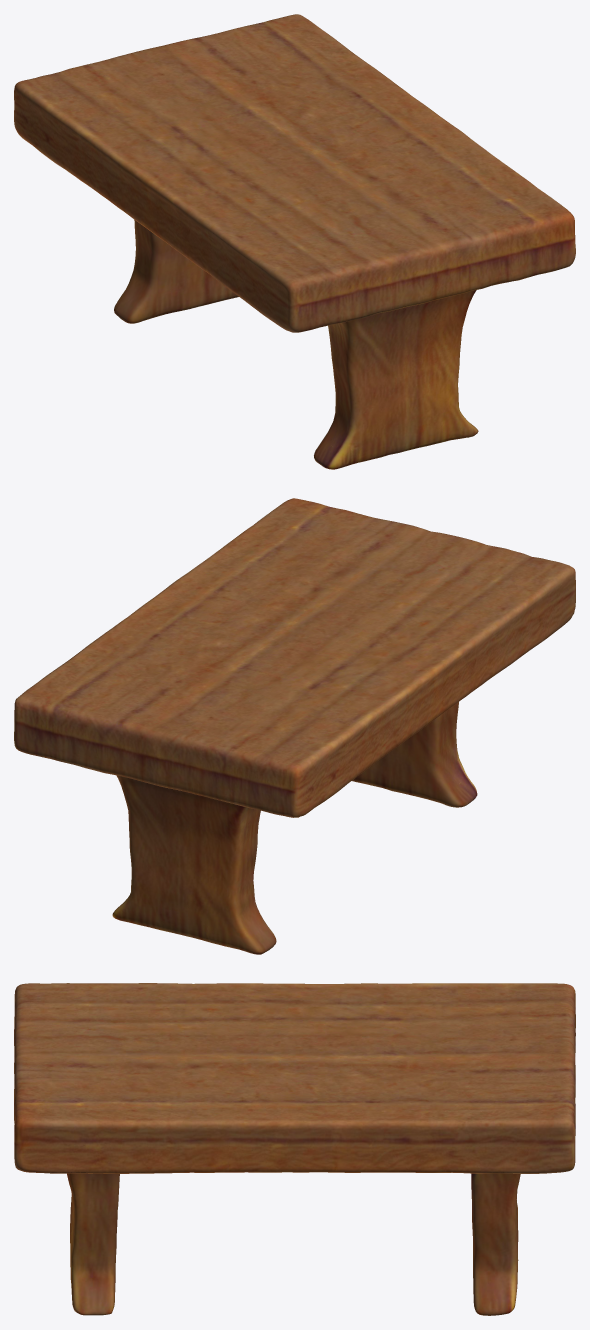
The model's file is wooden_table.fbx.
3 renders of one model, top to bottom at view 1: azimuth 30°, elevation 25°; view 2: azimuth 150°, elevation 25°; view 3: azimuth 270°, elevation 25°, orthographic.
Parts seen in each view (by area): view 1: mesh; view 2: mesh; view 3: mesh.
Boxes of the visible parts, x1=… form: mesh: x1=14, y1=14, x2=575, y2=469; mesh: x1=14, y1=498, x2=575, y2=954; mesh: x1=14, y1=983, x2=575, y2=1315.
Size of the model in its own units: 59.41 by 45.06 by 99.95.
